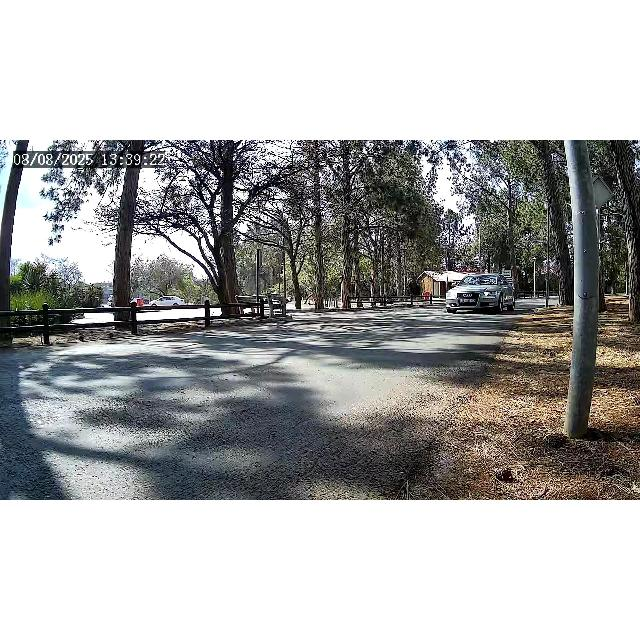car: (444, 274, 516, 314)
plate: (460, 299, 476, 303)
